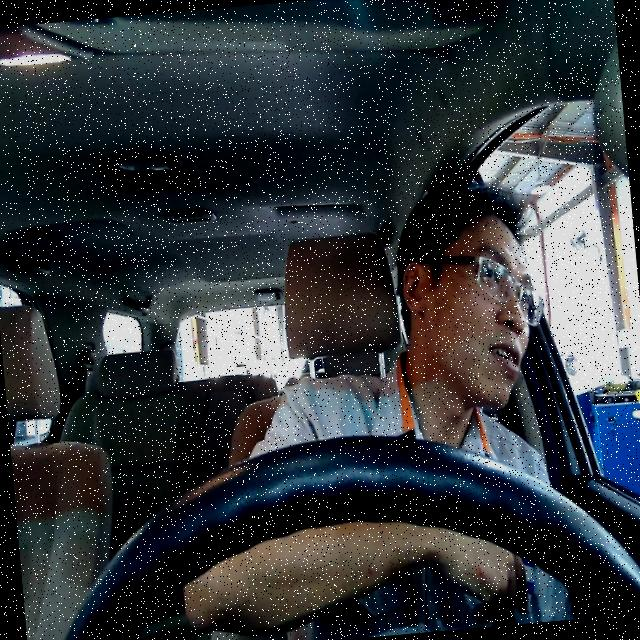focused: (396, 206, 542, 412)
